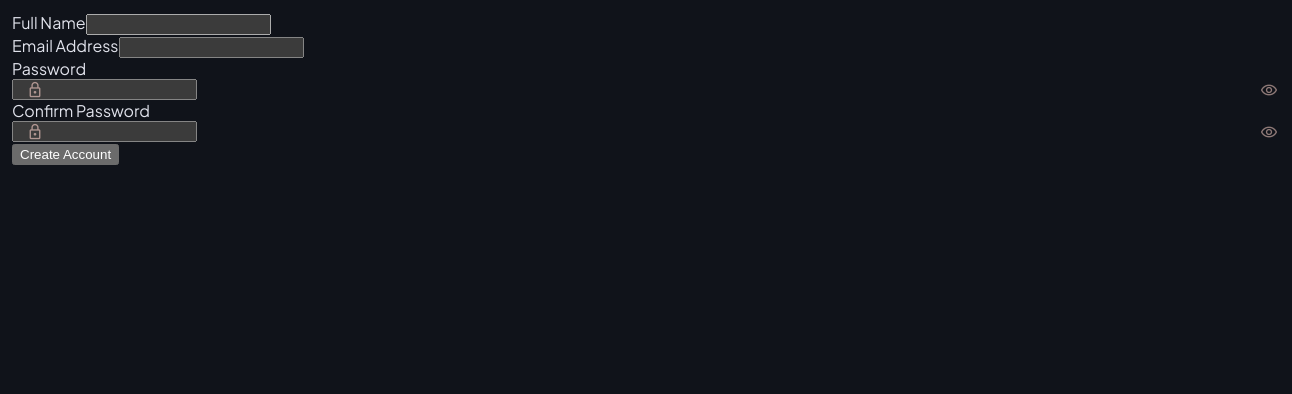
it: SignupForm › requires all four fields
The width and height of the screenshot is (1292, 394).
What coordinates should you click on to do the following:
click the button "Create Account"
I would click on:
 (66, 154)
Its box is [12,144,119,165].
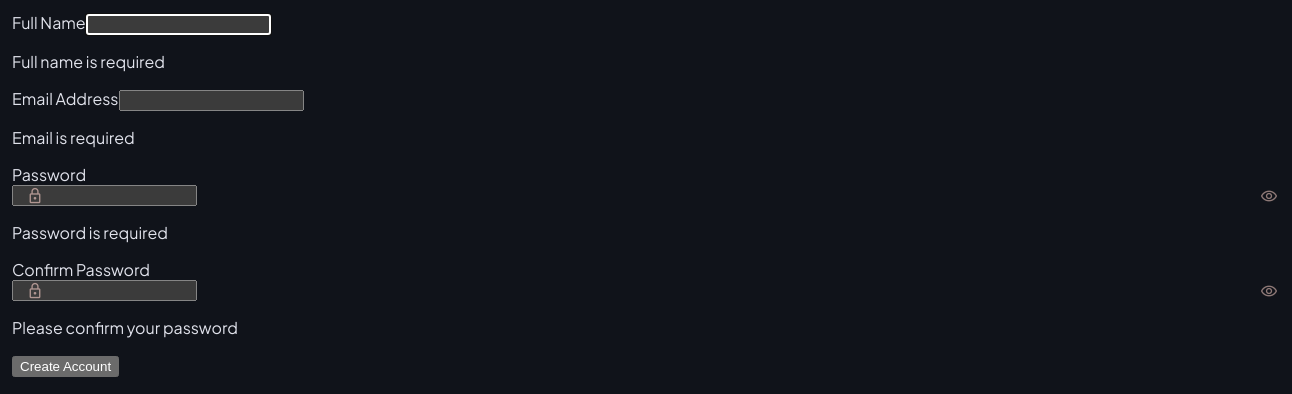
Expected: the text "Full name is required" is shown, [12,51,165,72]
Expected: the text "Email is required" is shown, [12,127,135,148]
Expected: the text "Password is required" is shown, [12,222,168,243]
